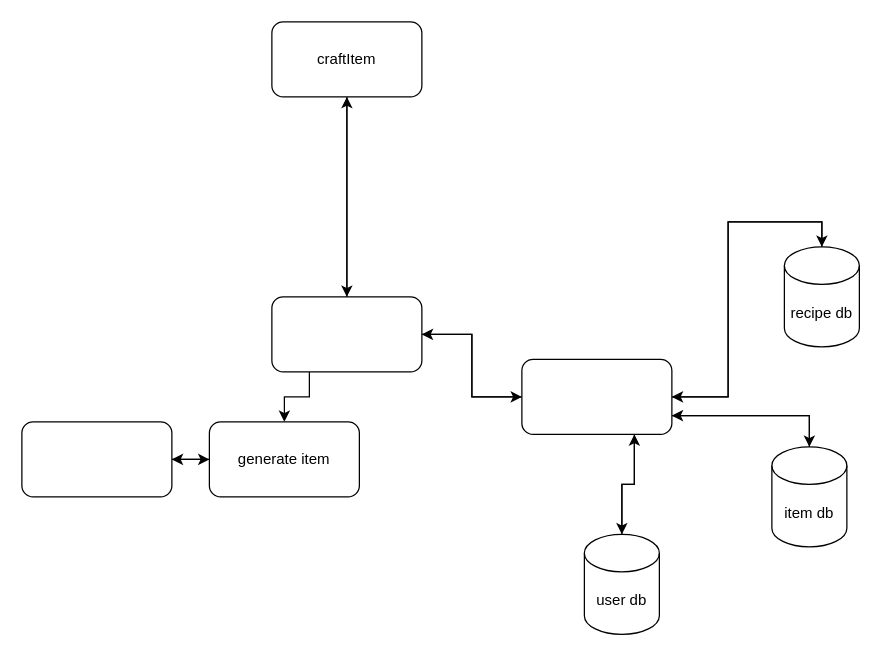
Some shapes in this 881 by 656 pixel diagram are drawn without their labels. Here are the shapes that lost their labels. From the top down, the box of each, then its label:
(271, 296, 422, 372): controller
(521, 358, 672, 434): dataService
(21, 421, 172, 497): generate stats
